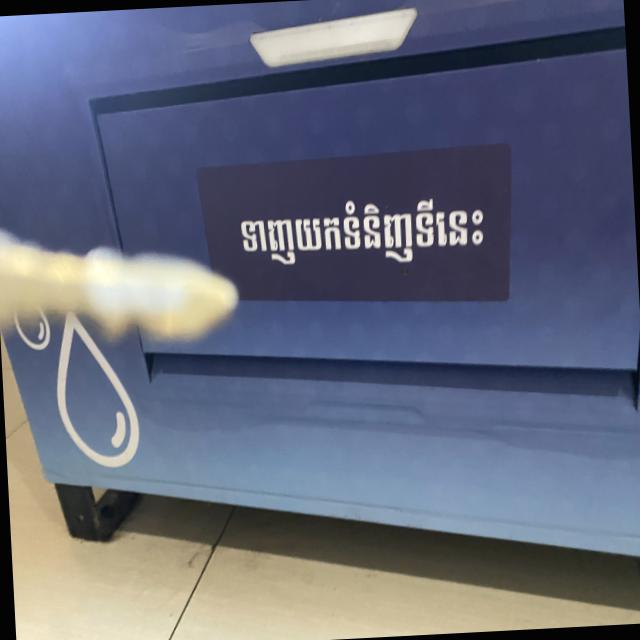Yolov11_80vkh: (234, 193, 496, 270)
